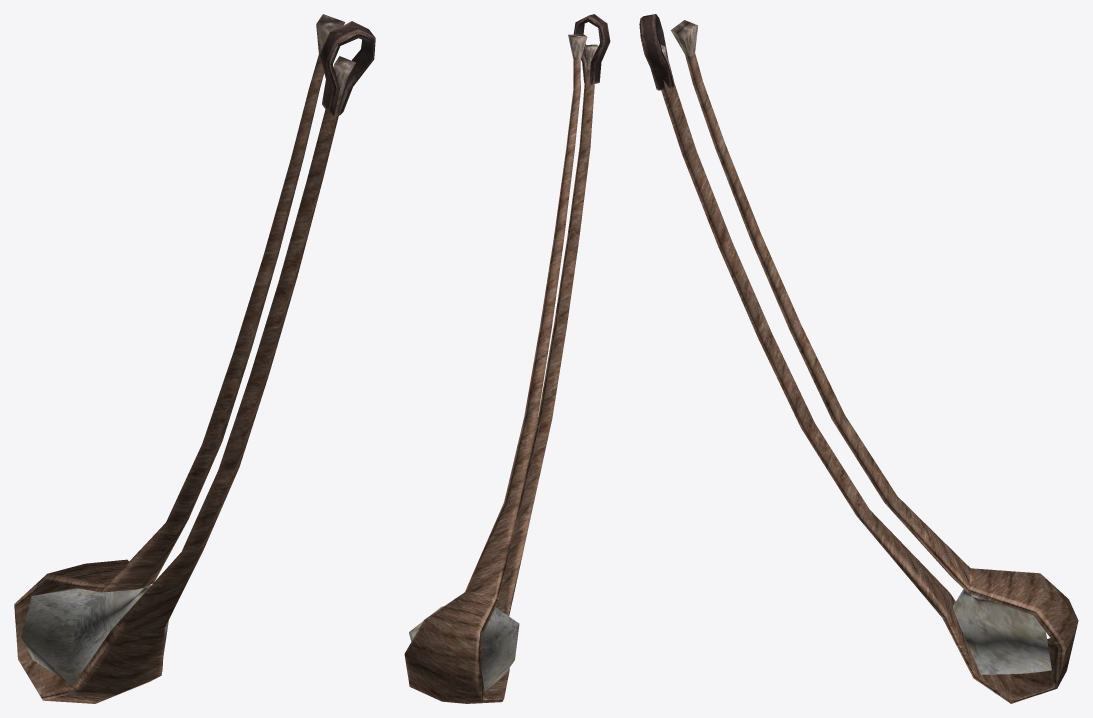
File: weapon-base.glb
The picture shows the model from 3 angles, left to right: view 1: azimuth 30°, elevation 25°; view 2: azimuth 150°, elevation 25°; view 3: azimuth 270°, elevation 25°; orthographic projection. The views are drawn at different scales.
Bounding box in the file's own units: 0.1579 × 0.8228 × 0.4739.
Materials: 1 (1 with a texture image).
